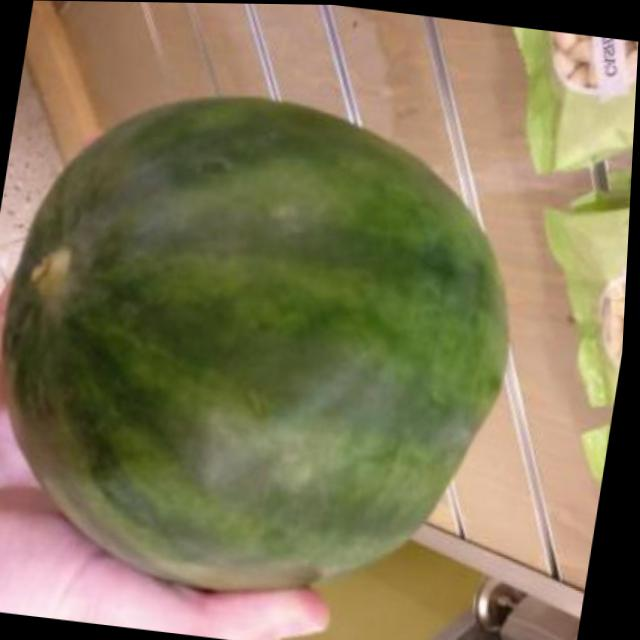Watermelon: (0, 72, 544, 615)
